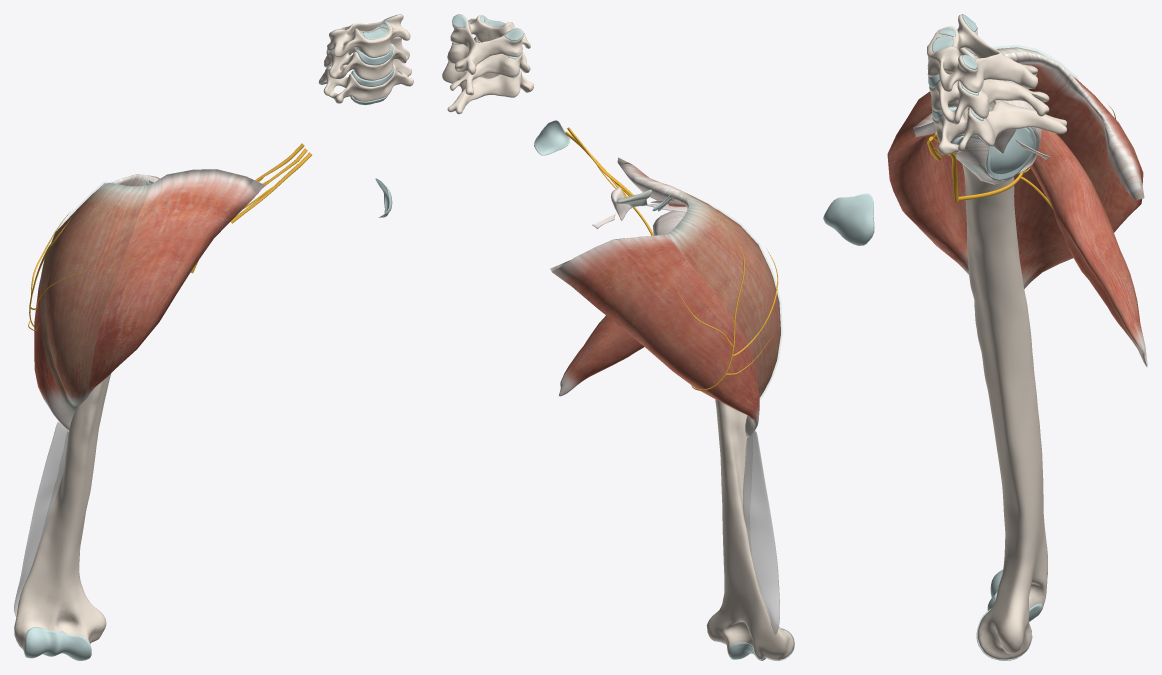
File: open3dmodel-axillary-nerve.glb
3 views of the same model, side by side, from view 1: azimuth 30°, elevation 25°; view 2: azimuth 150°, elevation 25°; view 3: azimuth 270°, elevation 25° (orthographic). The views are drawn at different scales.
Parts seen in each view (by area): view 1: Deltoid muscle.r, Humerus.r, Lateral intermuscular septum of arm.r, Cervical vertebra (C4), Cervical vertebra (C6), Art cart of humerus distal end.r, Cervical vertebra (C5); view 2: Deltoid muscle.r, Humerus.r, Lateral intermuscular septum of arm.r, Teres minor muscle.r, Cervical vertebra (C4), Cervical vertebra (C6), Cervical vertebra (C5), Art cart of sternoclavicular joint on clavicle.r, Axillary nerve - superior lateral br cutaneous nerve.r, Coracoclavicular ligament.r, Articular capsule of glenohumeral joint.r; view 3: Humerus.r, Deltoid muscle.r, Teres minor muscle.r, Cervical vertebra (C4), Cervical vertebra (C6), Cervical vertebra (C5), Art cart of sternoclavicular joint on clavicle.r, Articular capsule of glenohumeral joint.r, Art cart of glenohumeral joint on scapula.r, Vertebra C4 art cart, Art cart of humerus distal end.r, Glenoid labrum.r (+1 smaller).
Part boxes in pixels (x1,y1,x2,y2): Deltoid muscle.r: (34,169,264,431); Humerus.r: (14,373,111,651); Lateral intermuscular septum of arm.r: (14,421,68,616); Cervical vertebra (C4): (327,14,410,57); Cervical vertebra (C6): (318,59,413,103); Art cart of humerus distal end.r: (24,627,91,660); Cervical vertebra (C5): (324,36,409,80); Deltoid muscle.r: (550,157,780,437); Humerus.r: (706,399,793,660); Lateral intermuscular septum of arm.r: (742,430,779,634); Teres minor muscle.r: (559,315,643,396); Cervical vertebra (C4): (450,14,530,74); Cervical vertebra (C6): (442,60,534,114); Cervical vertebra (C5): (447,36,530,95); Art cart of sternoclavicular joint on clavicle.r: (534,120,570,155); Axillary nerve - superior lateral br cutaneous nerve.r: (674,241,778,390); Coracoclavicular ligament.r: (611,188,652,220); Articular capsule of glenohumeral joint.r: (653,210,685,235); Humerus.r: (962,163,1047,659); Deltoid muscle.r: (887,47,1144,288); Teres minor muscle.r: (1030,129,1147,366); Cervical vertebra (C4): (927,14,1037,92); Cervical vertebra (C6): (932,100,1066,154); Cervical vertebra (C5): (929,47,1049,124); Art cart of sternoclavicular joint on clavicle.r: (823,193,874,245); Articular capsule of glenohumeral joint.r: (954,88,1041,184); Art cart of glenohumeral joint on scapula.r: (990,127,1034,174); Vertebra C4 art cart: (931,14,977,84); Art cart of humerus distal end.r: (976,569,1043,660); Glenoid labrum.r: (985,127,1036,180).
Bounding box in the file's own units: 0.2807 × 0.4179 × 0.152.
12 materials, 3 textured.
